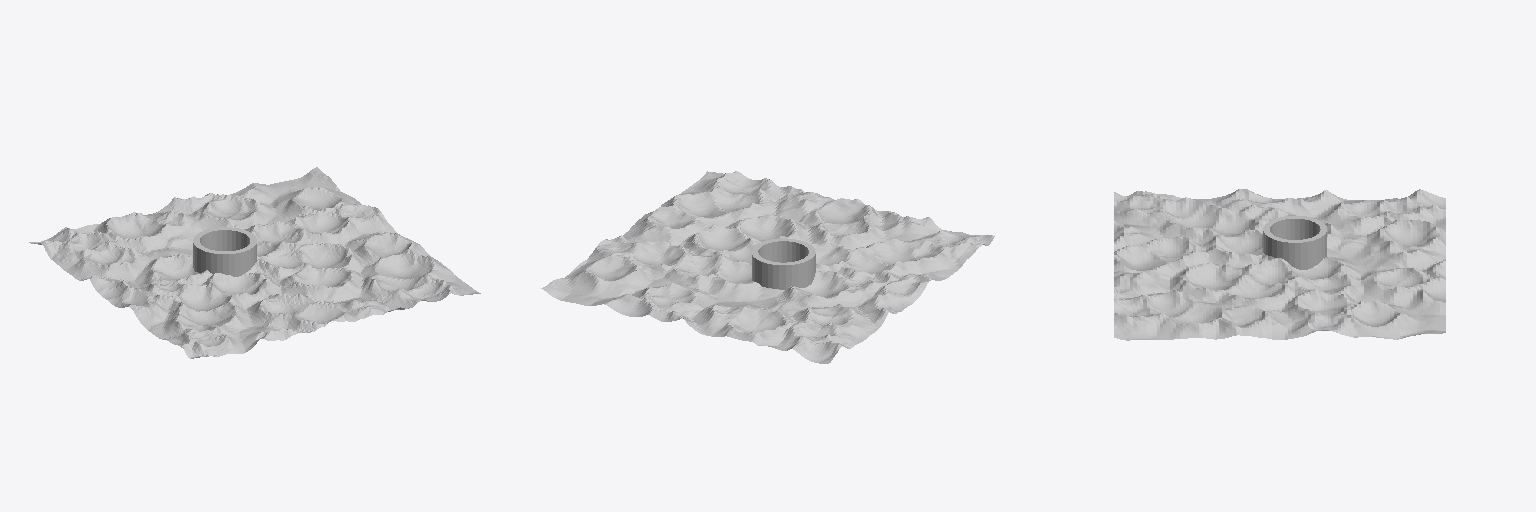
The model's file is terrain_crater.obj.
3 views of the same model, side by side, from view 1: azimuth 30°, elevation 25°; view 2: azimuth 150°, elevation 25°; view 3: azimuth 270°, elevation 25° (orthographic).
Parts seen in each view (by area): view 1: Plane, Circle; view 2: Plane, Circle; view 3: Plane, Circle.
Part boxes in pixels (x1,y1,x2,y2): Plane: (29,167,480,358); Circle: (193,227,256,276); Plane: (541,171,994,363); Circle: (752,238,815,289); Plane: (1114,189,1445,340); Circle: (1263,216,1326,269).
Bounding box in the file's own units: 150 × 15.24 × 150.